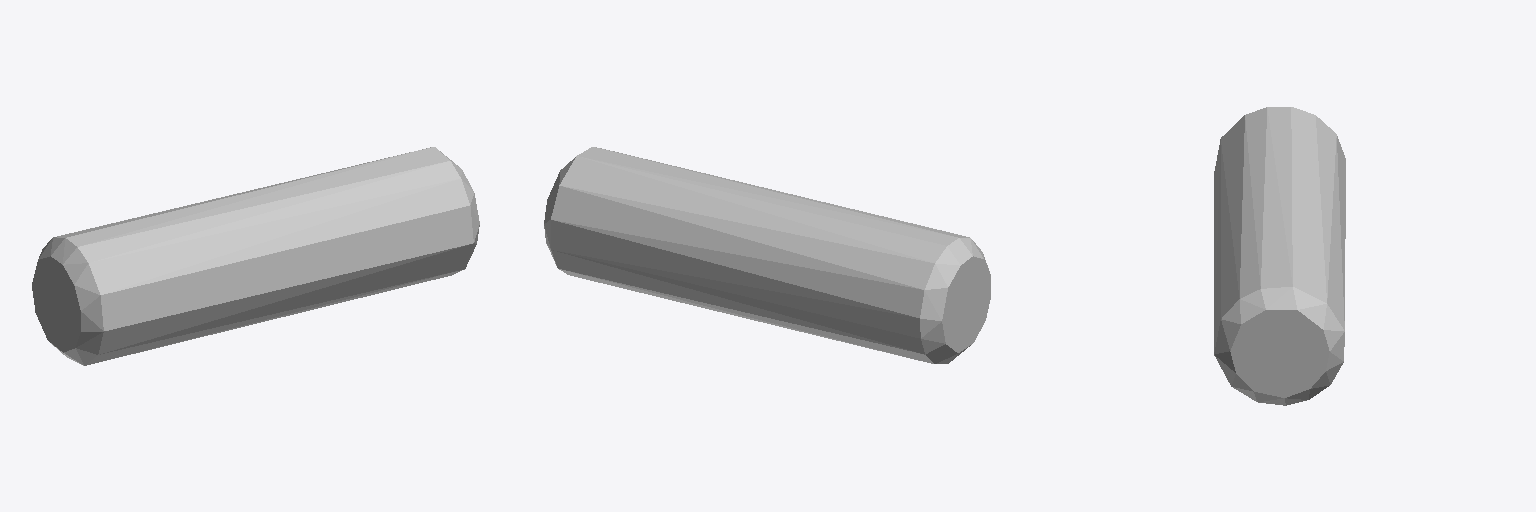
File: m20 stud for bearing housing.obj
The picture shows the model from 3 angles: view 1: azimuth 30°, elevation 25°; view 2: azimuth 150°, elevation 25°; view 3: azimuth 270°, elevation 25°; orthographic projection.
Visible parts, largest first — view 1: imagetostl_mesh0; view 2: imagetostl_mesh0; view 3: imagetostl_mesh0.
Boxes of the visible parts, x1,y1,x2,y2 form: imagetostl_mesh0: [32, 147, 479, 365]; imagetostl_mesh0: [544, 147, 990, 363]; imagetostl_mesh0: [1214, 107, 1345, 405].
Size of the model in its own units: 70.01 by 20.03 by 20.09.